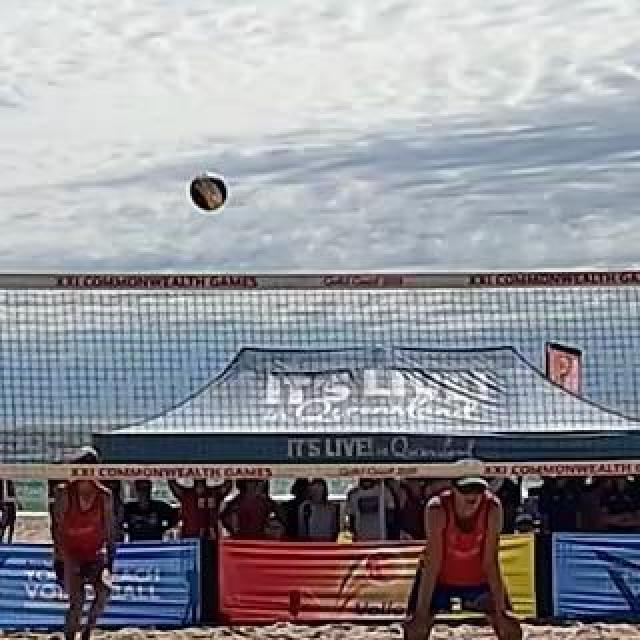volleyball: (188, 173, 228, 211)
